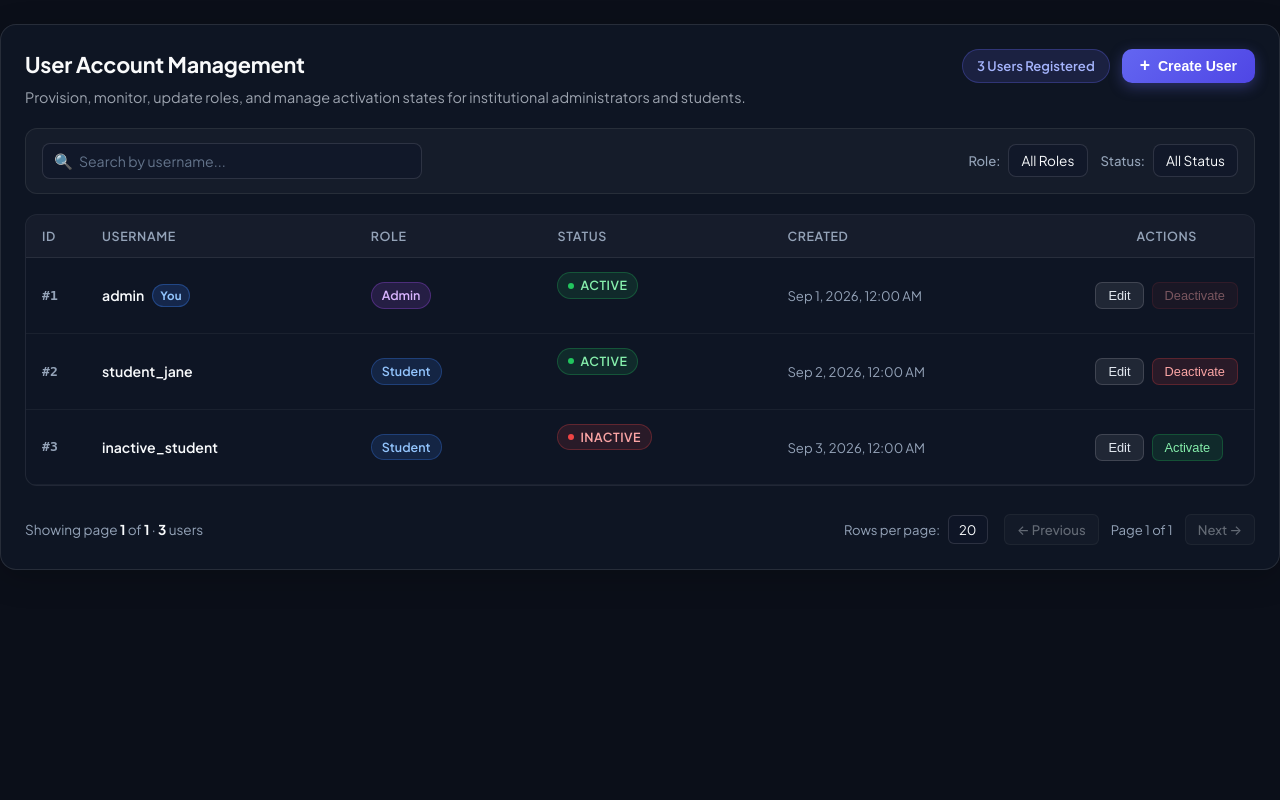
Test case: UserManagement Component › opens Create User modal, creates user, and shows success banner
Expected: the text "admin" is shown, [102,285,144,306]
# Open create user modal
Click the button with aria-label "create new user account" at point(1188, 66), box [1122,49,1255,83]
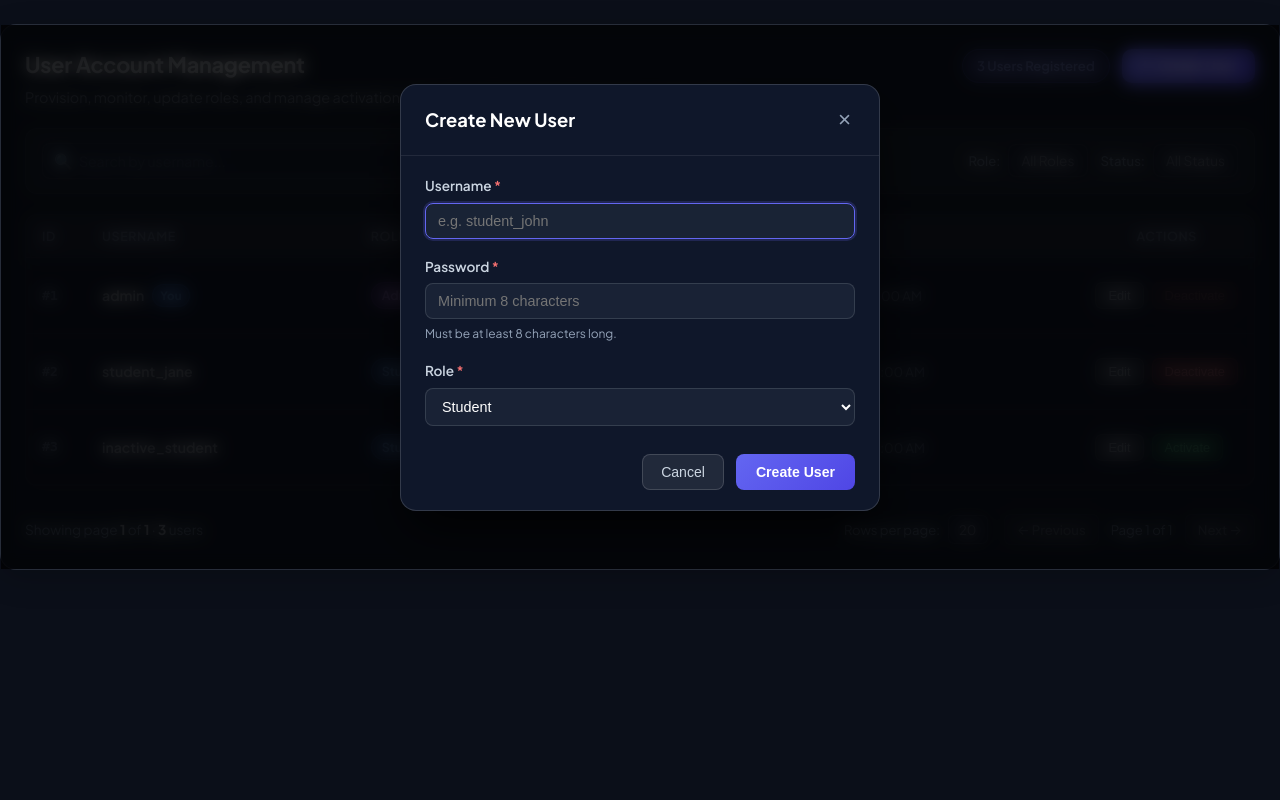
Expected: the dialog "Create New User" is shown, [400,84,880,510]
Type "student_bob" into the field with placeholder "e.g. student_john" at point(640, 221), box [425,203,855,239]
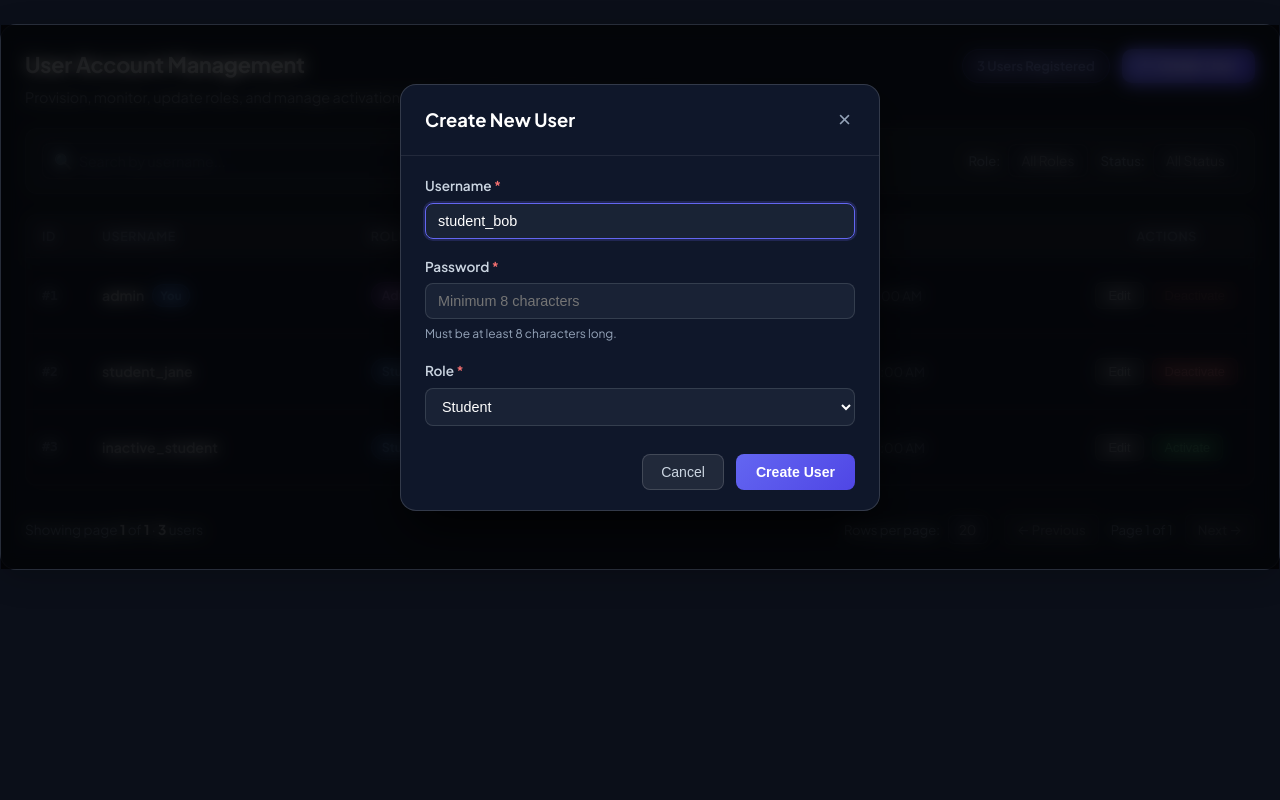
Type "ValidSecret123!" into the password field with placeholder "Minimum 8 characters" at point(640, 301), box [425,283,855,319]
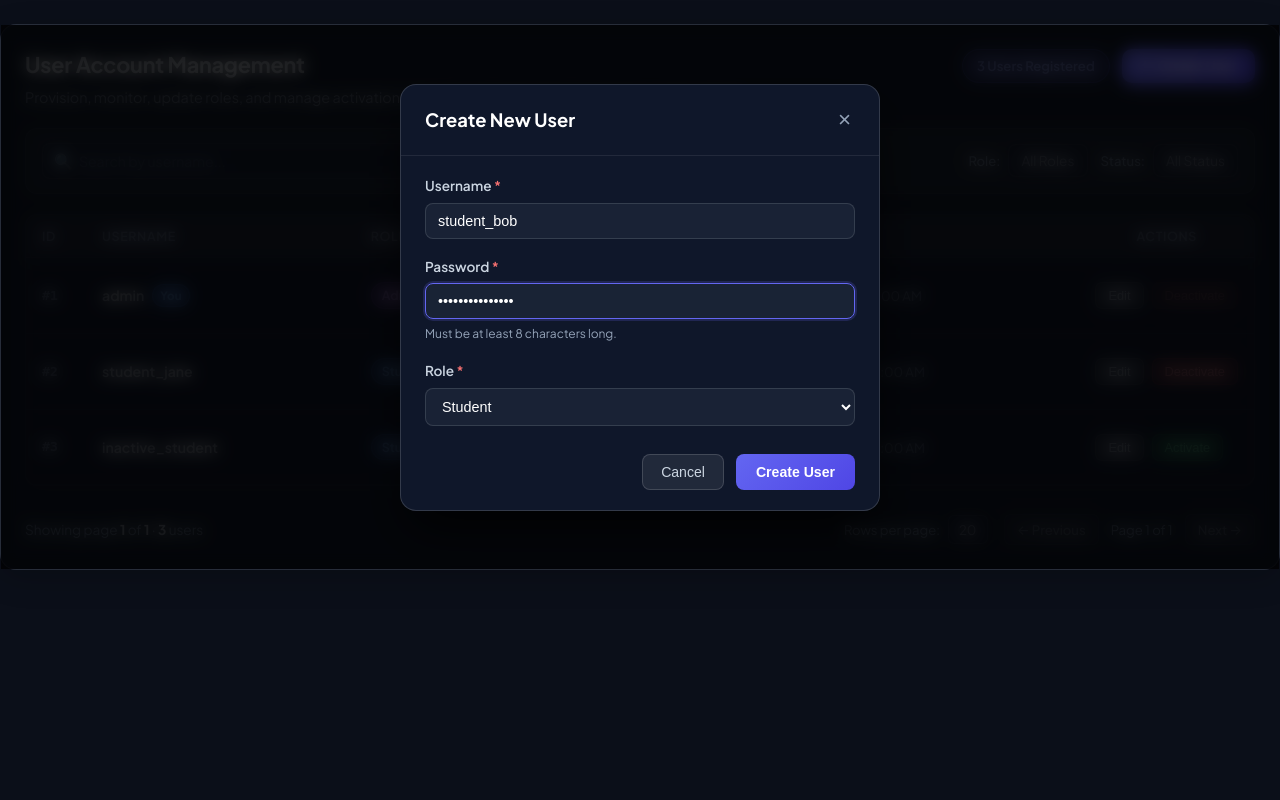
Click the button "Create User" at point(796, 472), box [736,454,855,490]
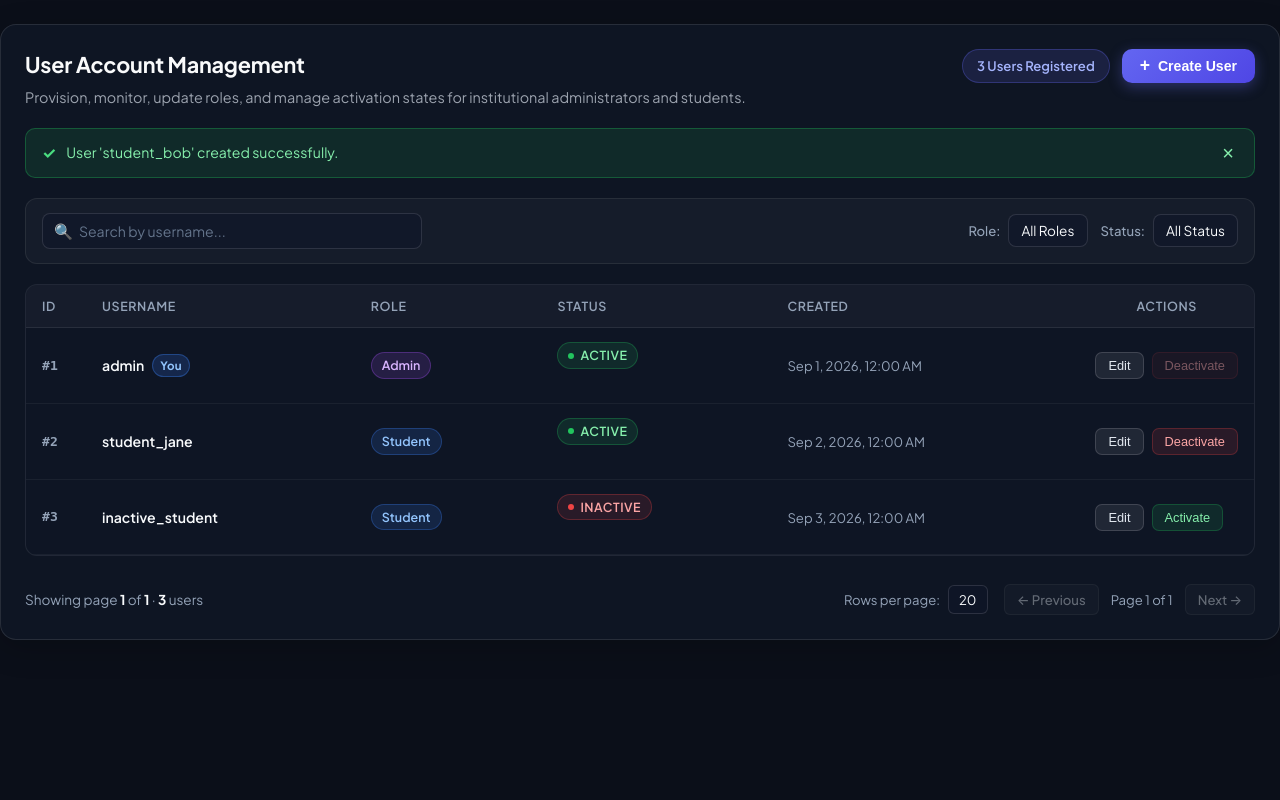
Expected: the text "User 'student_bob' created successfully." is shown, [66,142,338,163]
